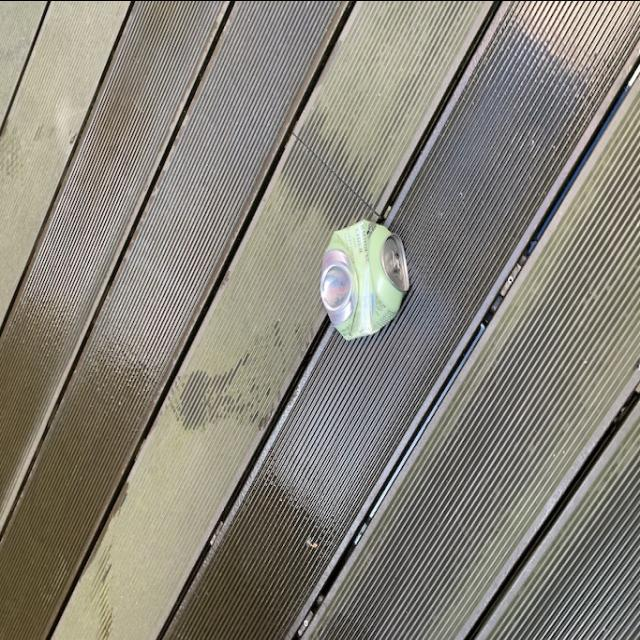Aluminum Can: (318, 214, 416, 348)
